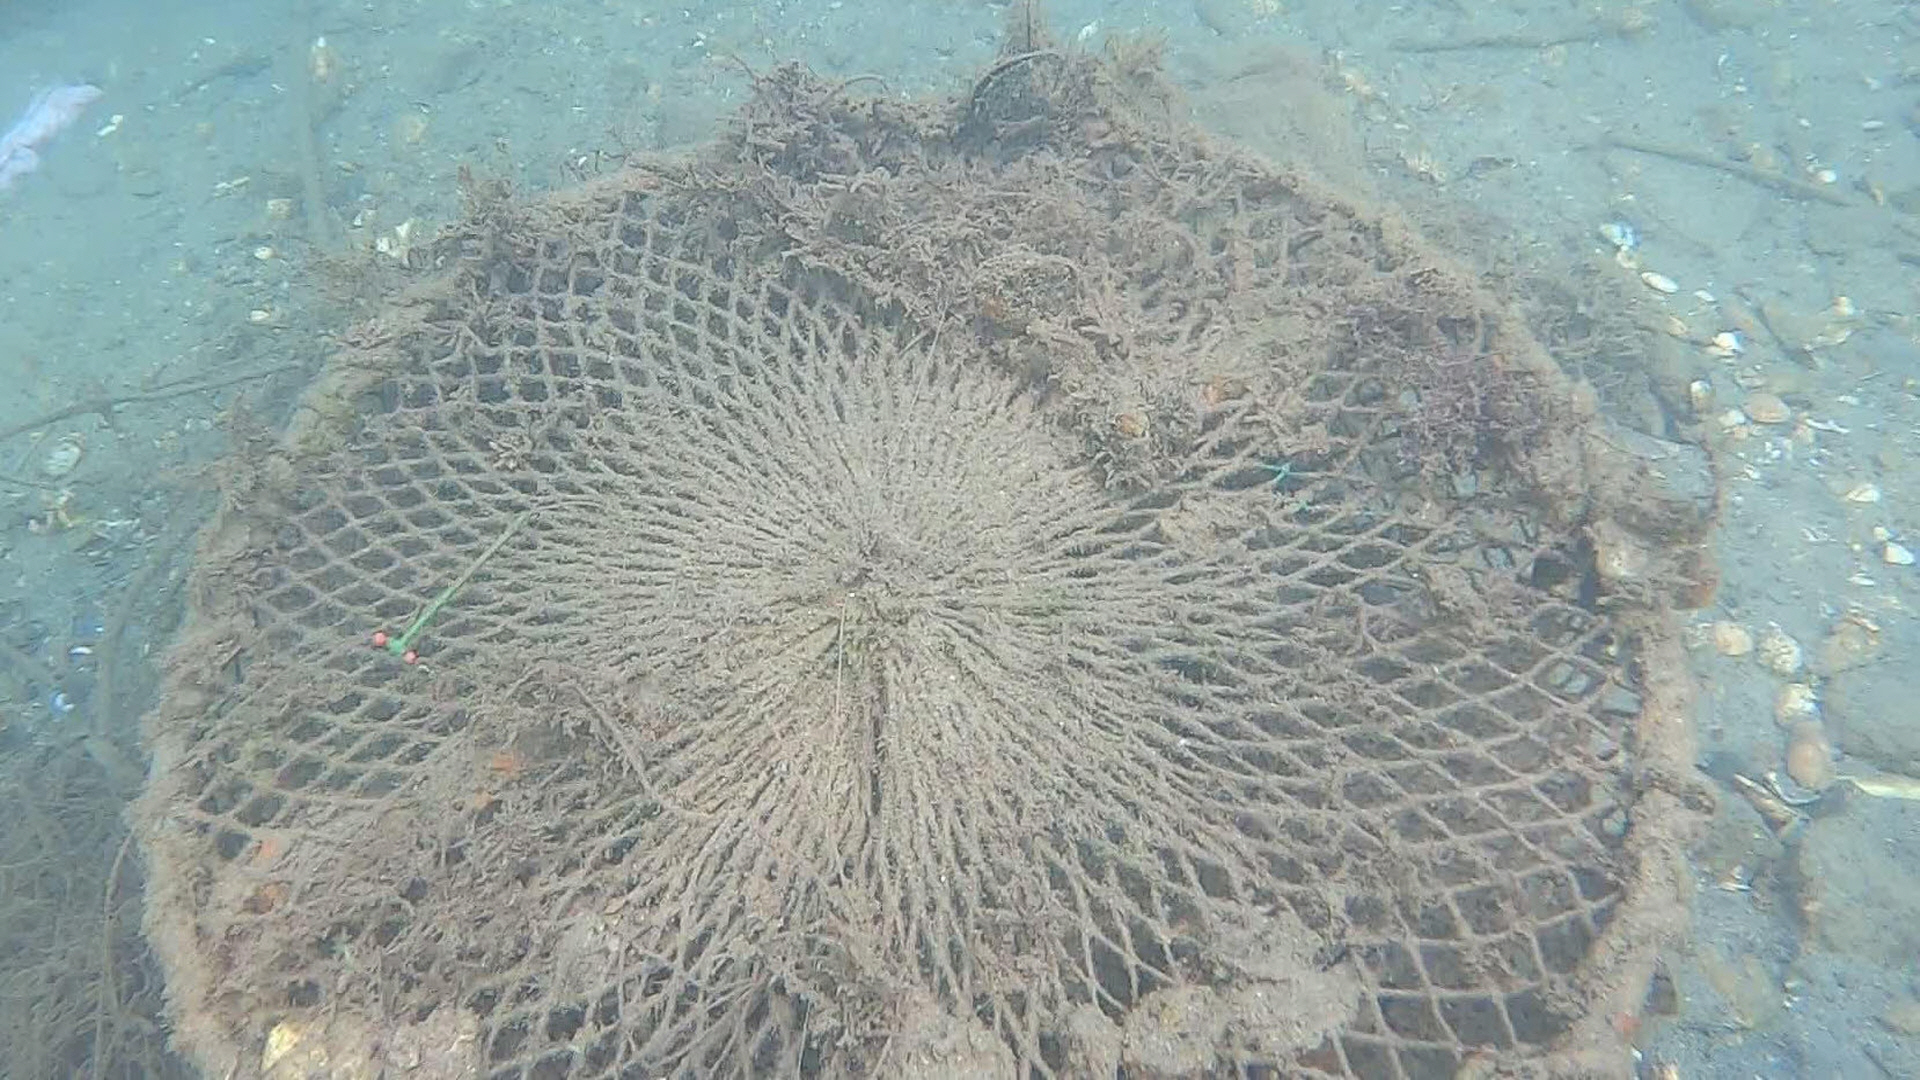circular fish trap: (129, 94, 1712, 1079)
